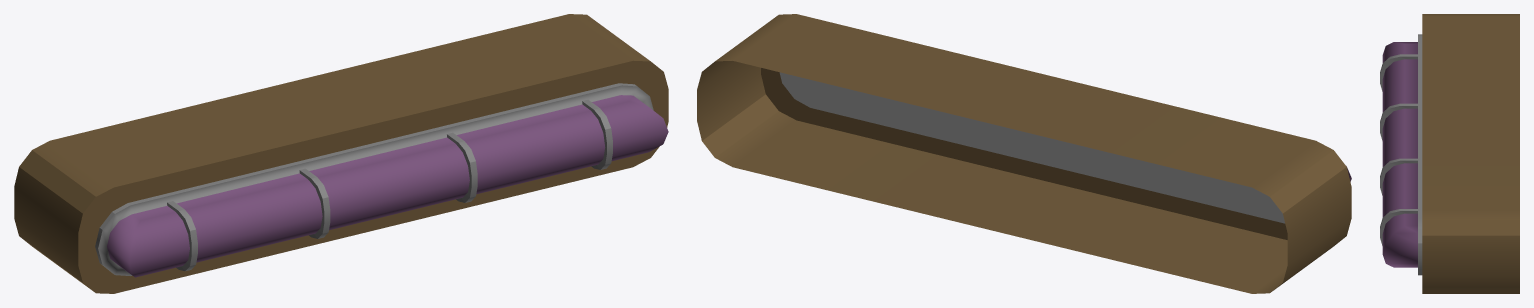
Rendered from dopeBar.fbx.
3 renders of one model, left to right at view 1: azimuth 30°, elevation 25°; view 2: azimuth 150°, elevation 25°; view 3: azimuth 270°, elevation 25°, orthographic. The views are drawn at different scales.
Visible parts, largest first — view 1: polySurface78; view 2: polySurface78; view 3: polySurface78.
Part boxes in pixels (left/top/right/bottom): polySurface78: left=14, top=14, right=668, bottom=293; polySurface78: left=697, top=14, right=1351, bottom=293; polySurface78: left=1380, top=14, right=1519, bottom=293.
Bounding box in the file's own units: 5.33 × 0.9184 × 1.43.
